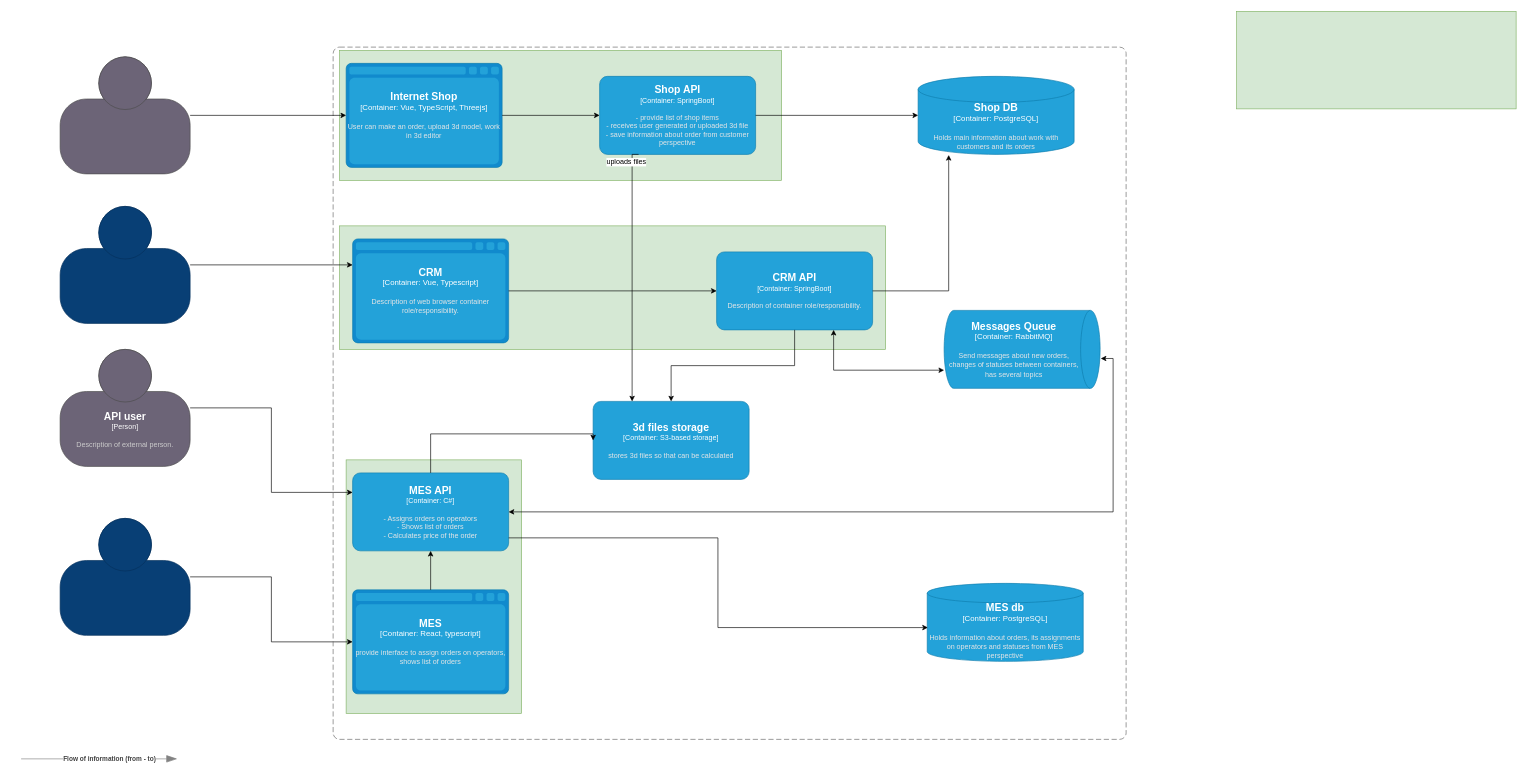
Image size: 1528x781. Some labels were removed from this diagram. Here are the shapes that lost their labels. From the top down, the box of each, then its label:
(1236, 11, 1516, 109): Трассировку предлагается добавить в системы, помещённые в зелёные прямоугольники
(59, 56, 190, 174): Customer [Person] Description of external person.
(59, 206, 190, 323): Seller [Person] Operates with order, confirms manufacturing for the user
(332, 46, 1126, 739): Jewerly Store System [Software System]
(59, 518, 190, 635): Operator [Person] Takes order in work, manufactures jewerly
